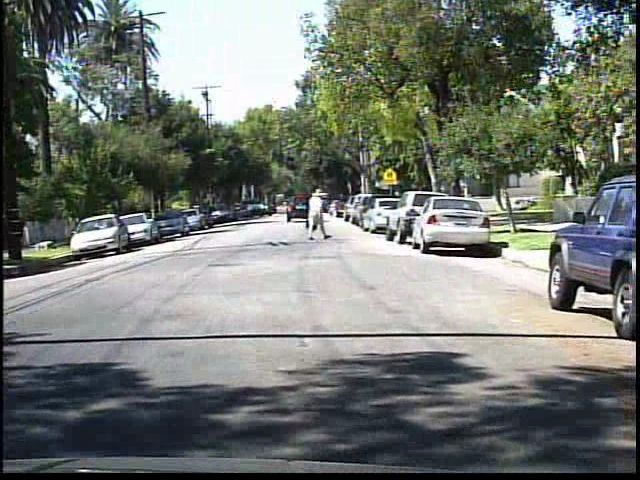person: (301, 186, 333, 242)
